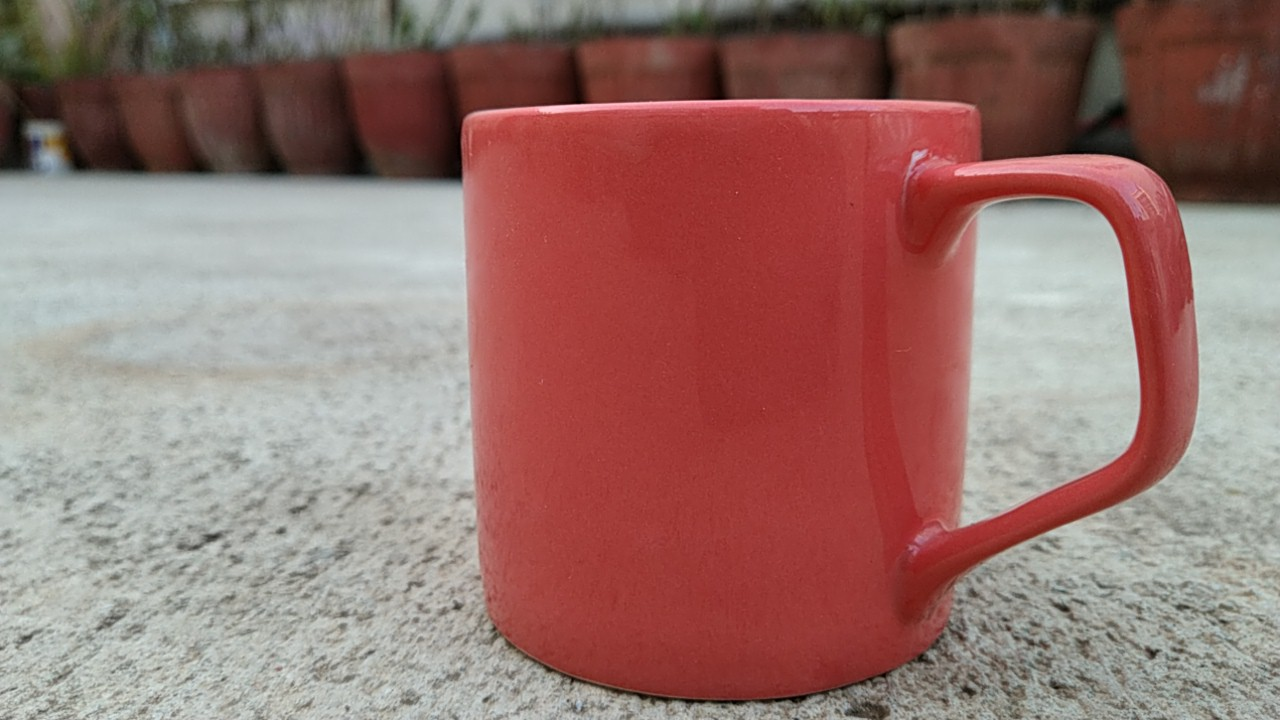cup: (439, 92, 1209, 710)
